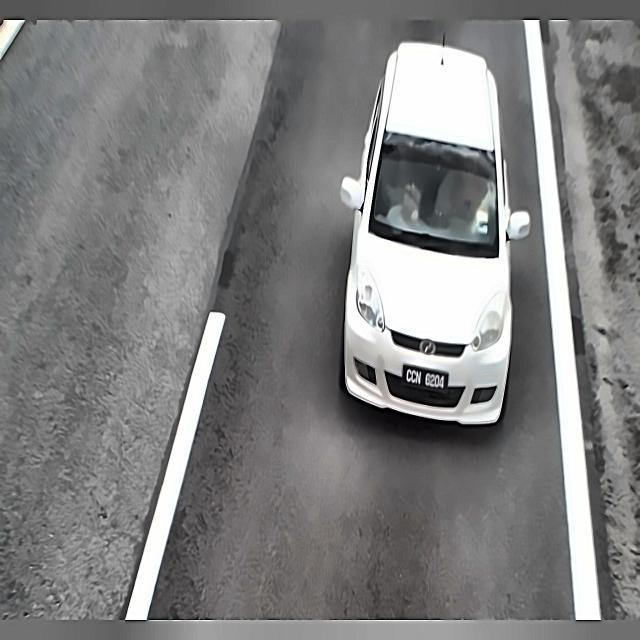car: (402, 359, 451, 397)
